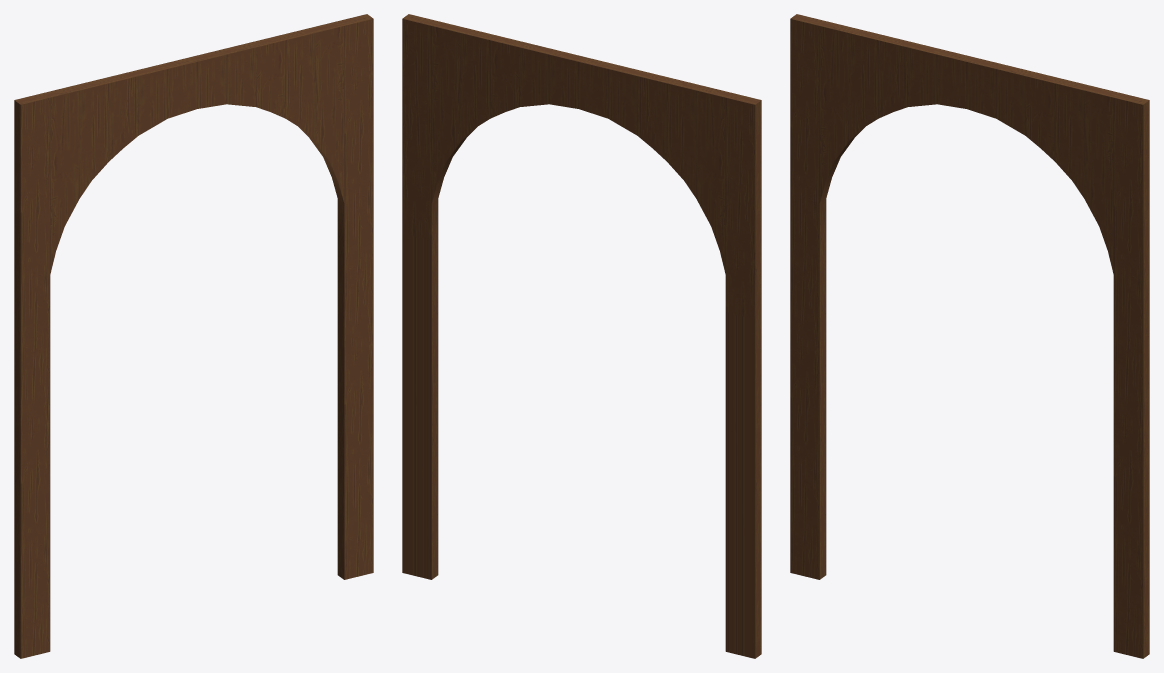
Rendered from stone-arch.glb.
The picture shows the model from 3 angles, left to right: view 1: azimuth 30°, elevation 25°; view 2: azimuth 150°, elevation 25°; view 3: azimuth 330°, elevation 25°; orthographic projection.
Parts seen in each view (by area): view 1: Wall_Arch; view 2: Wall_Arch; view 3: Wall_Arch.
Part boxes in pixels (left/top/right/bottom): Wall_Arch: left=14, top=14, right=373, bottom=658; Wall_Arch: left=402, top=14, right=761, bottom=658; Wall_Arch: left=790, top=14, right=1149, bottom=658.
Size of the model in its own units: 2 by 3 by 0.0641.
1 material, 1 textured.
